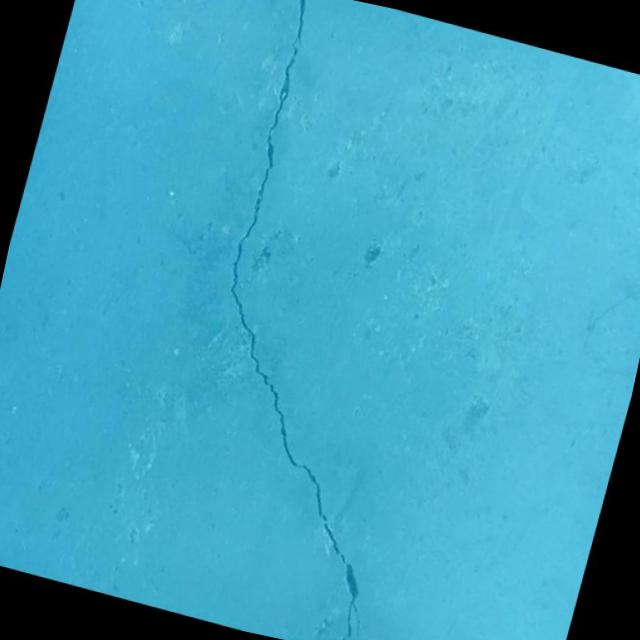crack: (129, 0, 530, 640)
